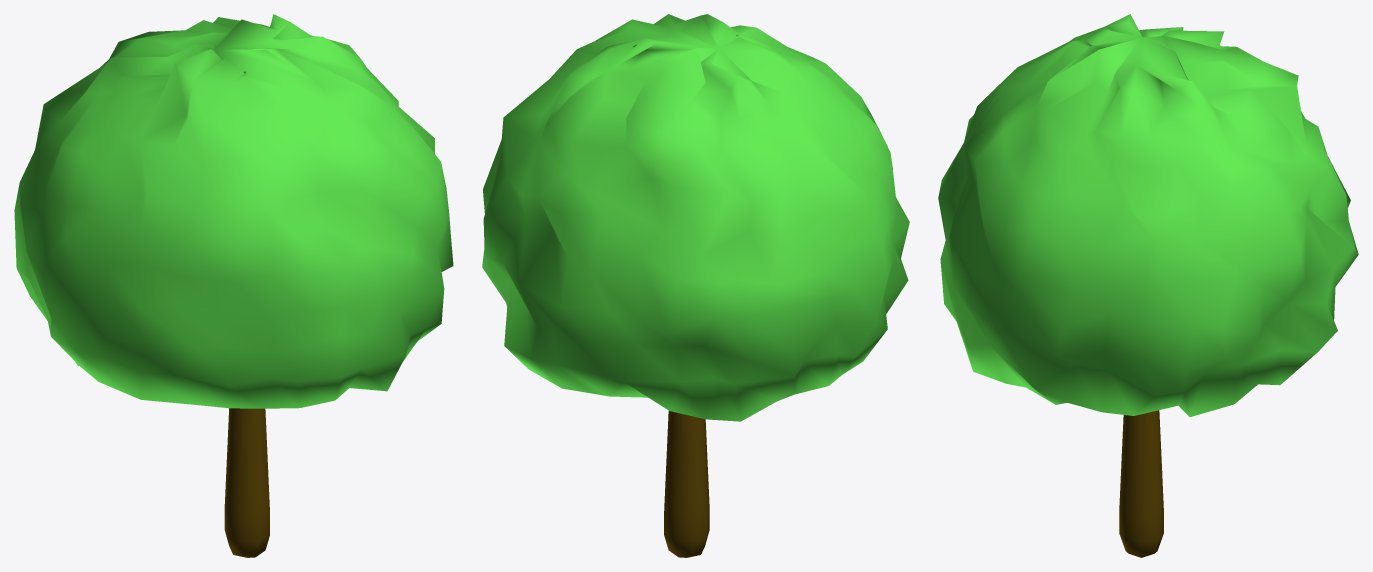
The model's file is ağaç.fbx.
The picture shows the model from 3 angles, left to right: view 1: azimuth 30°, elevation 25°; view 2: azimuth 150°, elevation 25°; view 3: azimuth 270°, elevation 25°; orthographic projection. The views are drawn at different scales.
Visible parts, largest first — view 1: Sphere, Vert; view 2: Sphere, Vert; view 3: Sphere, Vert.
Boxes of the visible parts, bbox=[...] form: Sphere: bbox=[14, 14, 453, 408]; Vert: bbox=[224, 408, 269, 557]; Sphere: bbox=[482, 14, 909, 421]; Vert: bbox=[664, 411, 709, 557]; Sphere: bbox=[938, 14, 1358, 416]; Vert: bbox=[1119, 410, 1163, 557].
Size of the model in its own units: 435 by 577 by 429.
